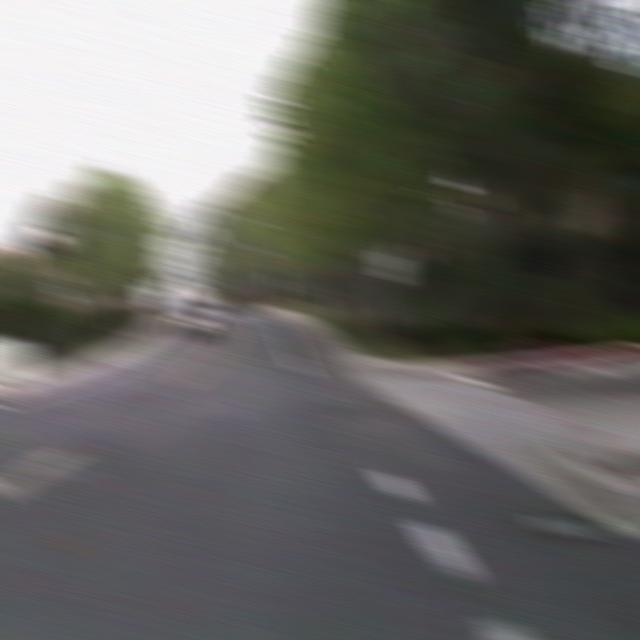speedLimit35: (377, 249, 408, 284)
